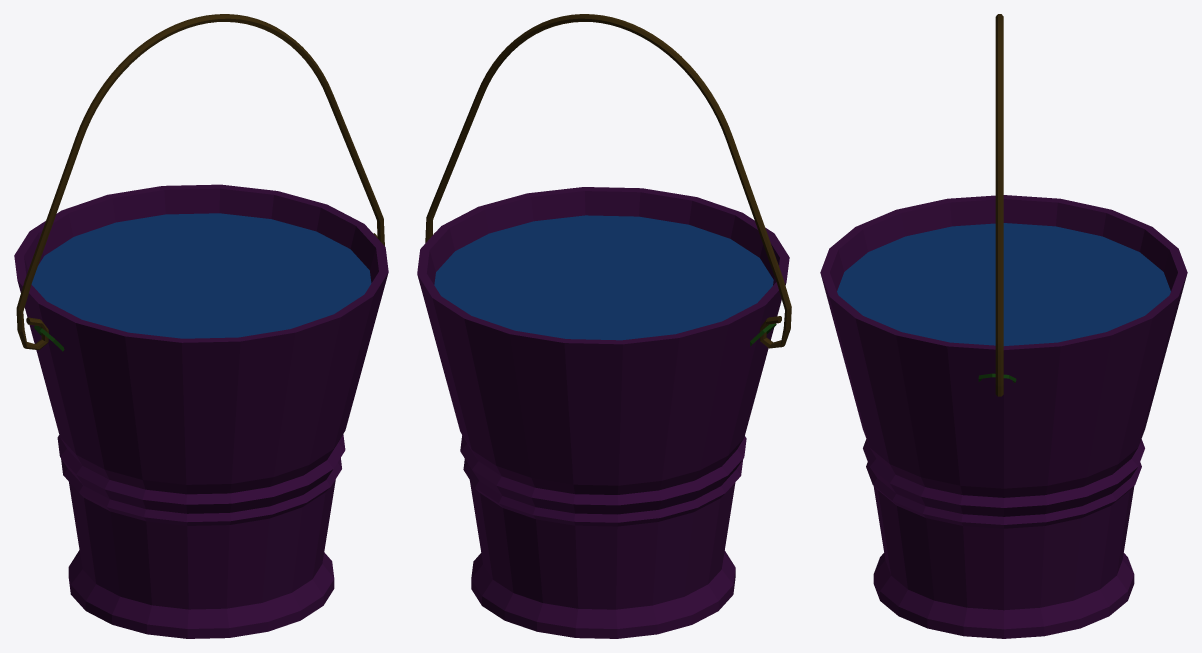
File: Hink_med_vatten.fbx
3 renders of one model, left to right at view 1: azimuth 30°, elevation 25°; view 2: azimuth 150°, elevation 25°; view 3: azimuth 270°, elevation 25°, orthographic. The views are drawn at different scales.
Visible parts, largest first — view 1: polySurface6; view 2: polySurface6; view 3: polySurface6.
Boxes of the visible parts, x1,y1,x2,y2 form: polySurface6: [14, 14, 388, 638]; polySurface6: [417, 14, 791, 638]; polySurface6: [820, 14, 1187, 638].
Bounding box in the file's own units: 67.28 × 99.52 × 59.8.
